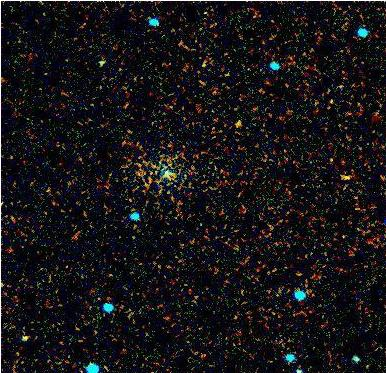star: (217, 105, 247, 135)
